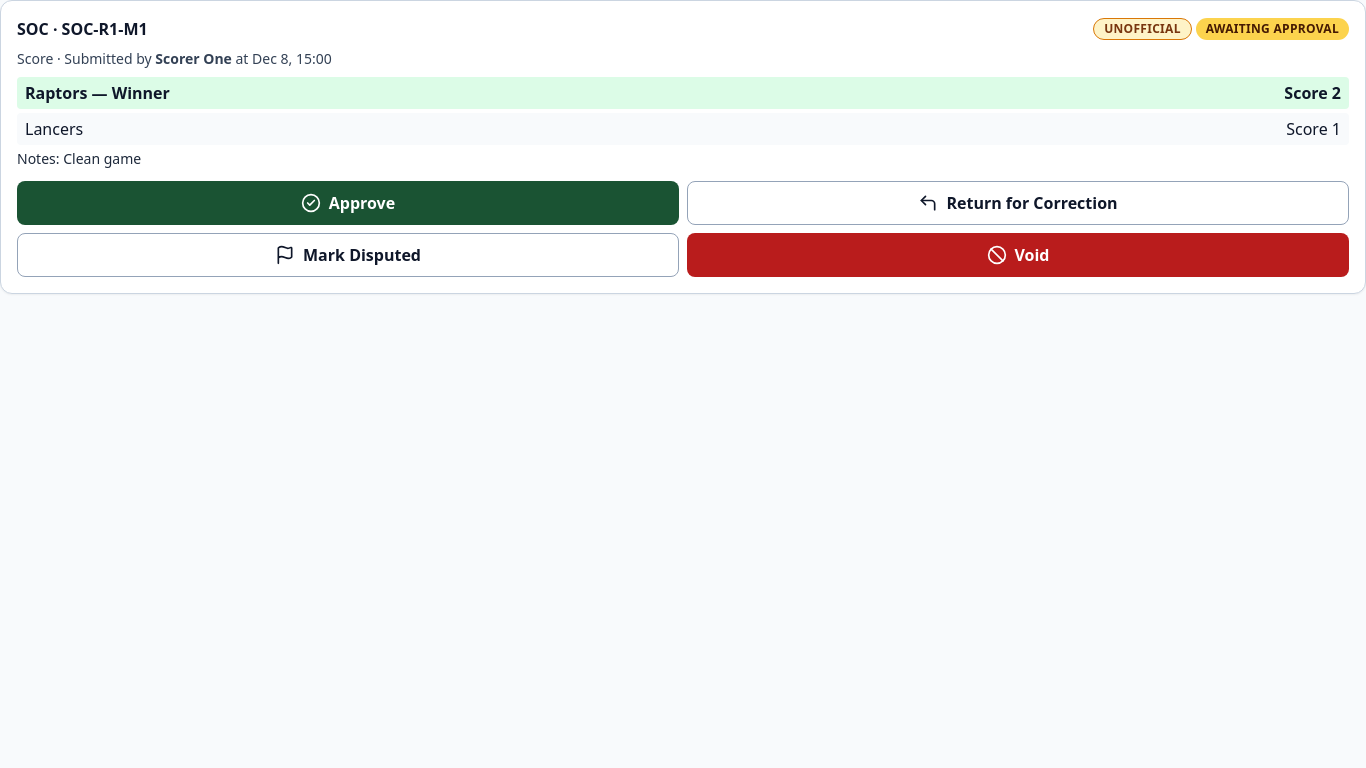
ResultValidationCard › requires a reason to return for correction
Later steps or results of the test are not shown.
What coordinates should you click on to do the following:
click the button "Return for Correction"
I would click on:
 (1018, 203)
Its box is left=687, top=181, right=1349, bottom=225.
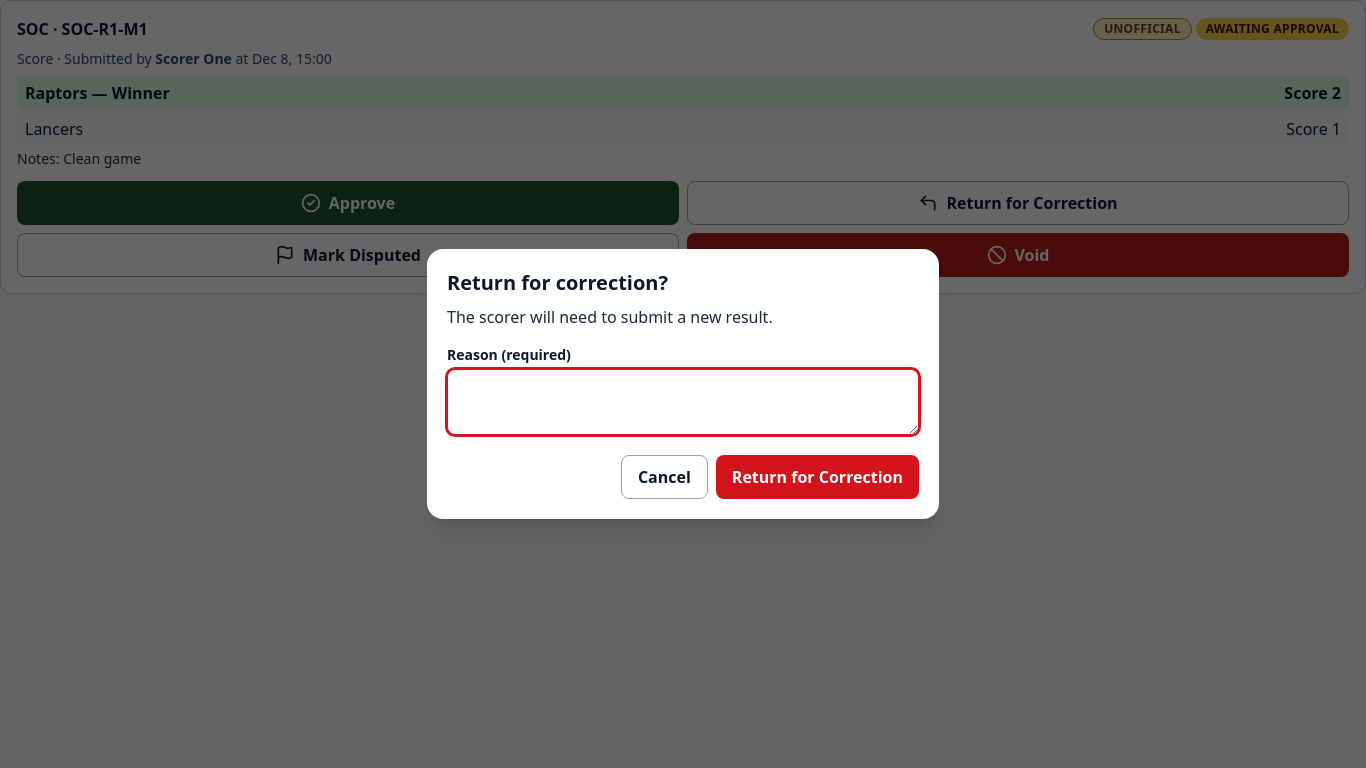
What coordinates should you click on to do the following:
click the button "Return for Correction"
I would click on:
 (817, 477)
Its box is left=716, top=455, right=919, bottom=499.
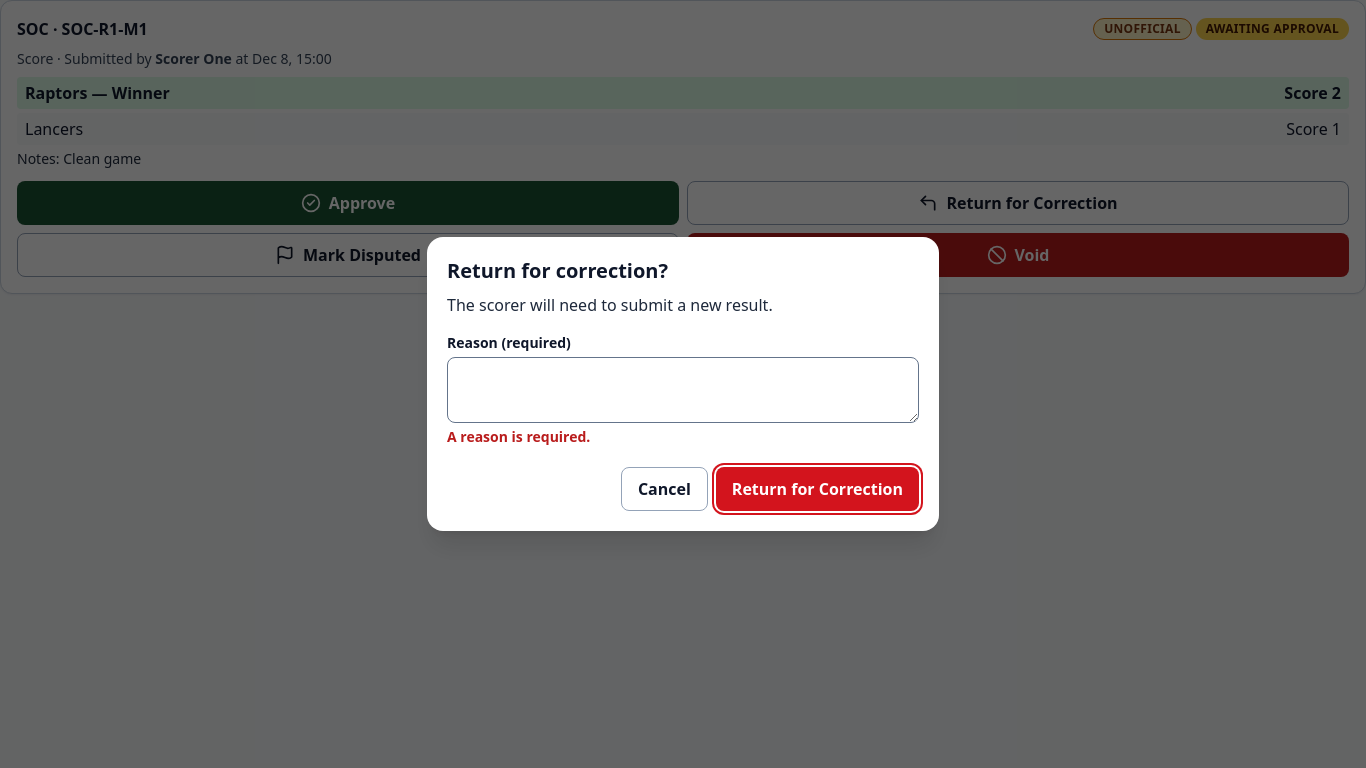
Result: the text "A reason is required." is shown at left=447, top=427, right=590, bottom=446
